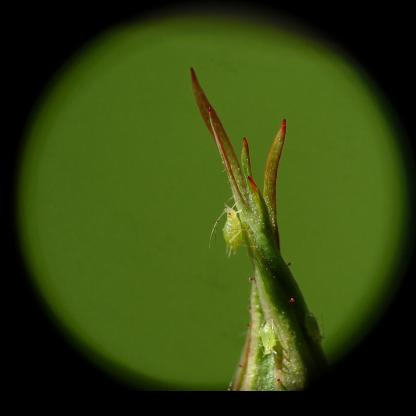aphid: (209, 202, 253, 261), (254, 317, 286, 365)
